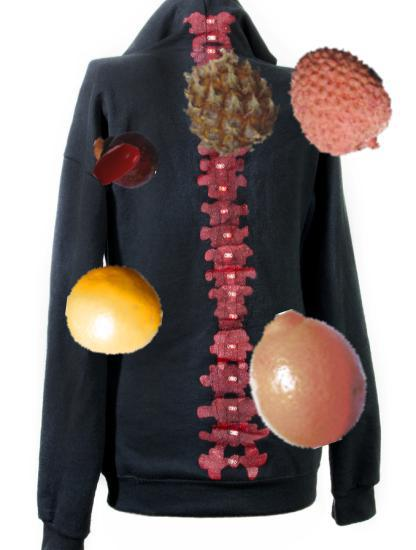Grapefruit: (66, 262, 163, 359)
Lychee: (278, 42, 402, 166)
Mangostan: (91, 124, 159, 192)
Pineapple: (176, 52, 281, 157)
Tangelo: (236, 308, 377, 449)
Tomato: (91, 137, 143, 189)
